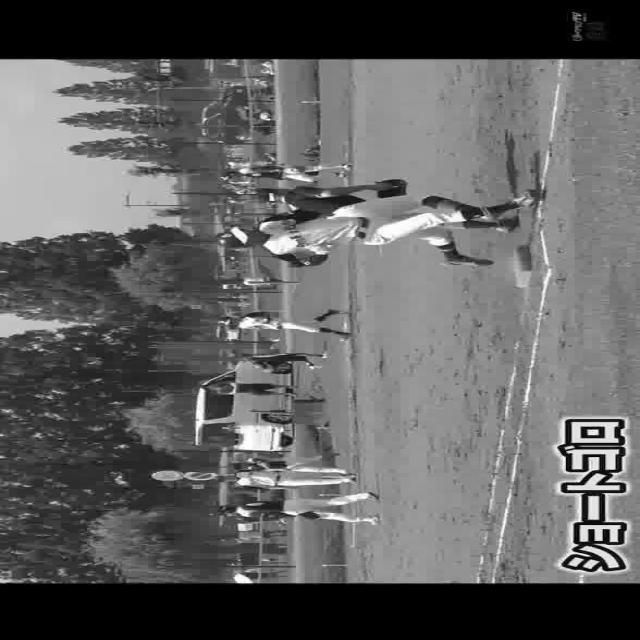base: (507, 244, 531, 292)
baseball_glove: (376, 176, 413, 196), (298, 508, 326, 520)
shoe: (510, 186, 542, 210), (438, 255, 497, 268), (494, 212, 526, 230), (357, 487, 388, 502), (364, 513, 385, 527)
